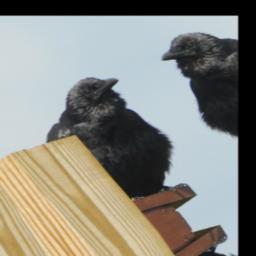Crow: (21, 63, 204, 221)
